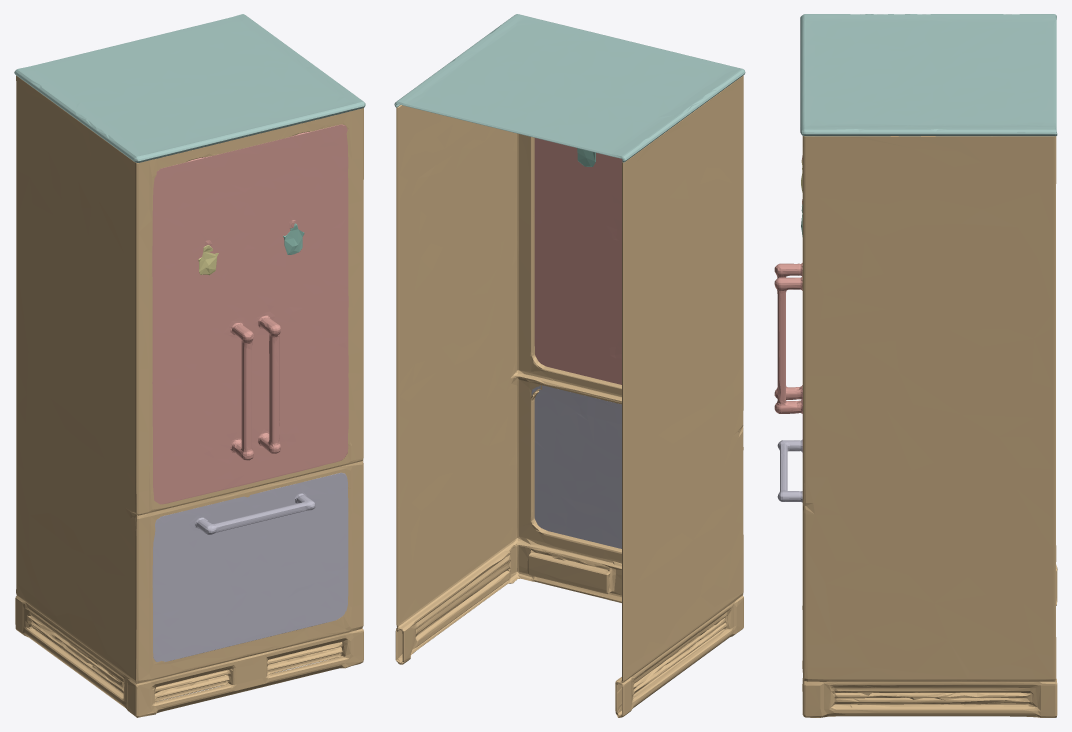
The model's file is refrigerator.glb.
The picture shows the model from 3 angles, left to right: view 1: azimuth 30°, elevation 25°; view 2: azimuth 150°, elevation 25°; view 3: azimuth 270°, elevation 25°; orthographic projection. The views are drawn at different scales.
Parts seen in each view (by area): view 1: world; view 2: world; view 3: world.
Boxes of the visible parts, left/top/right/bottom form: world: left=14, top=14, right=365, bottom=717; world: left=394, top=14, right=745, bottom=717; world: left=774, top=14, right=1057, bottom=717.
Size of the model in its own units: 0.8207 by 1.9 by 0.828.
